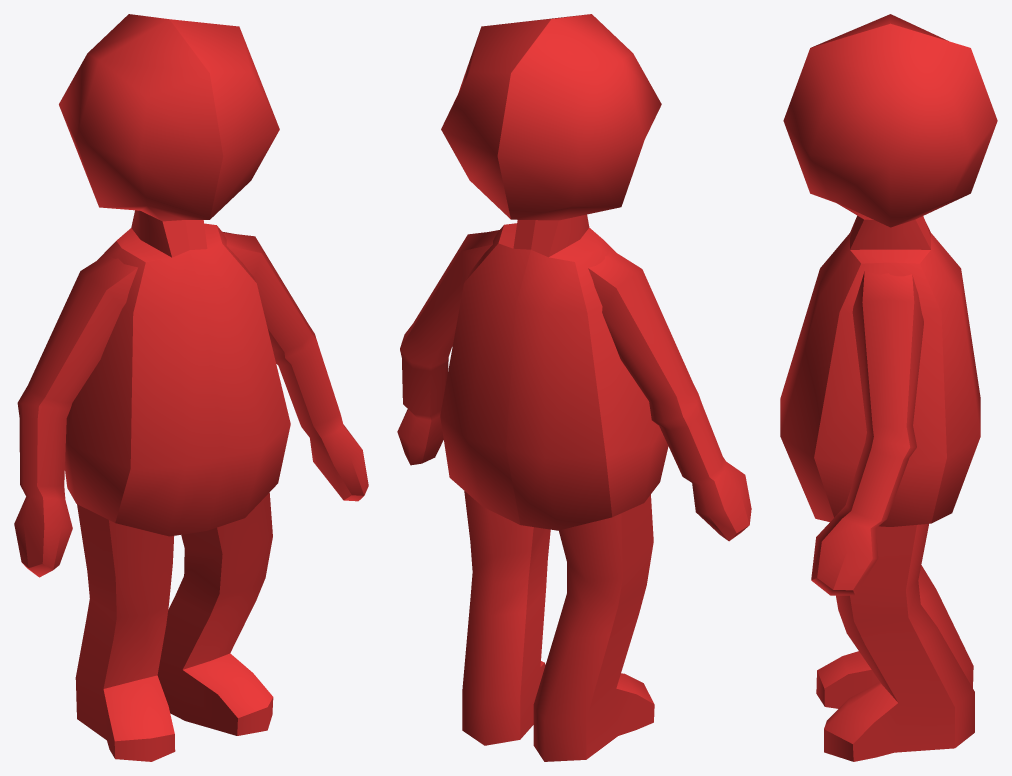
The model's file is human_stand.fbx.
3 views of the same model, side by side, from view 1: azimuth 30°, elevation 25°; view 2: azimuth 150°, elevation 25°; view 3: azimuth 270°, elevation 25° (orthographic).
Visible parts, largest first — view 1: human; view 2: human; view 3: human.
Boxes of the visible parts, left/top/right/bottom form: human: left=14, top=14, right=368, bottom=761; human: left=397, top=14, right=751, bottom=761; human: left=780, top=14, right=997, bottom=761.
Size of the model in its own units: 7.21 by 14.37 by 4.04.
